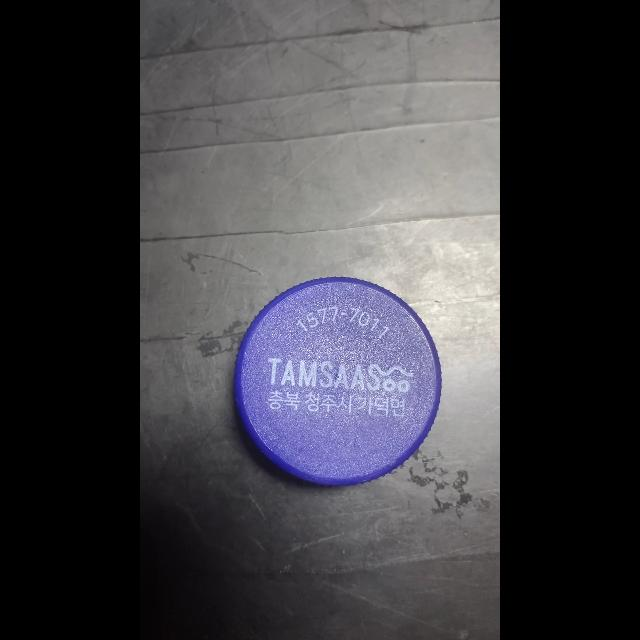plastic_bottle_cap: (228, 272, 452, 496)
